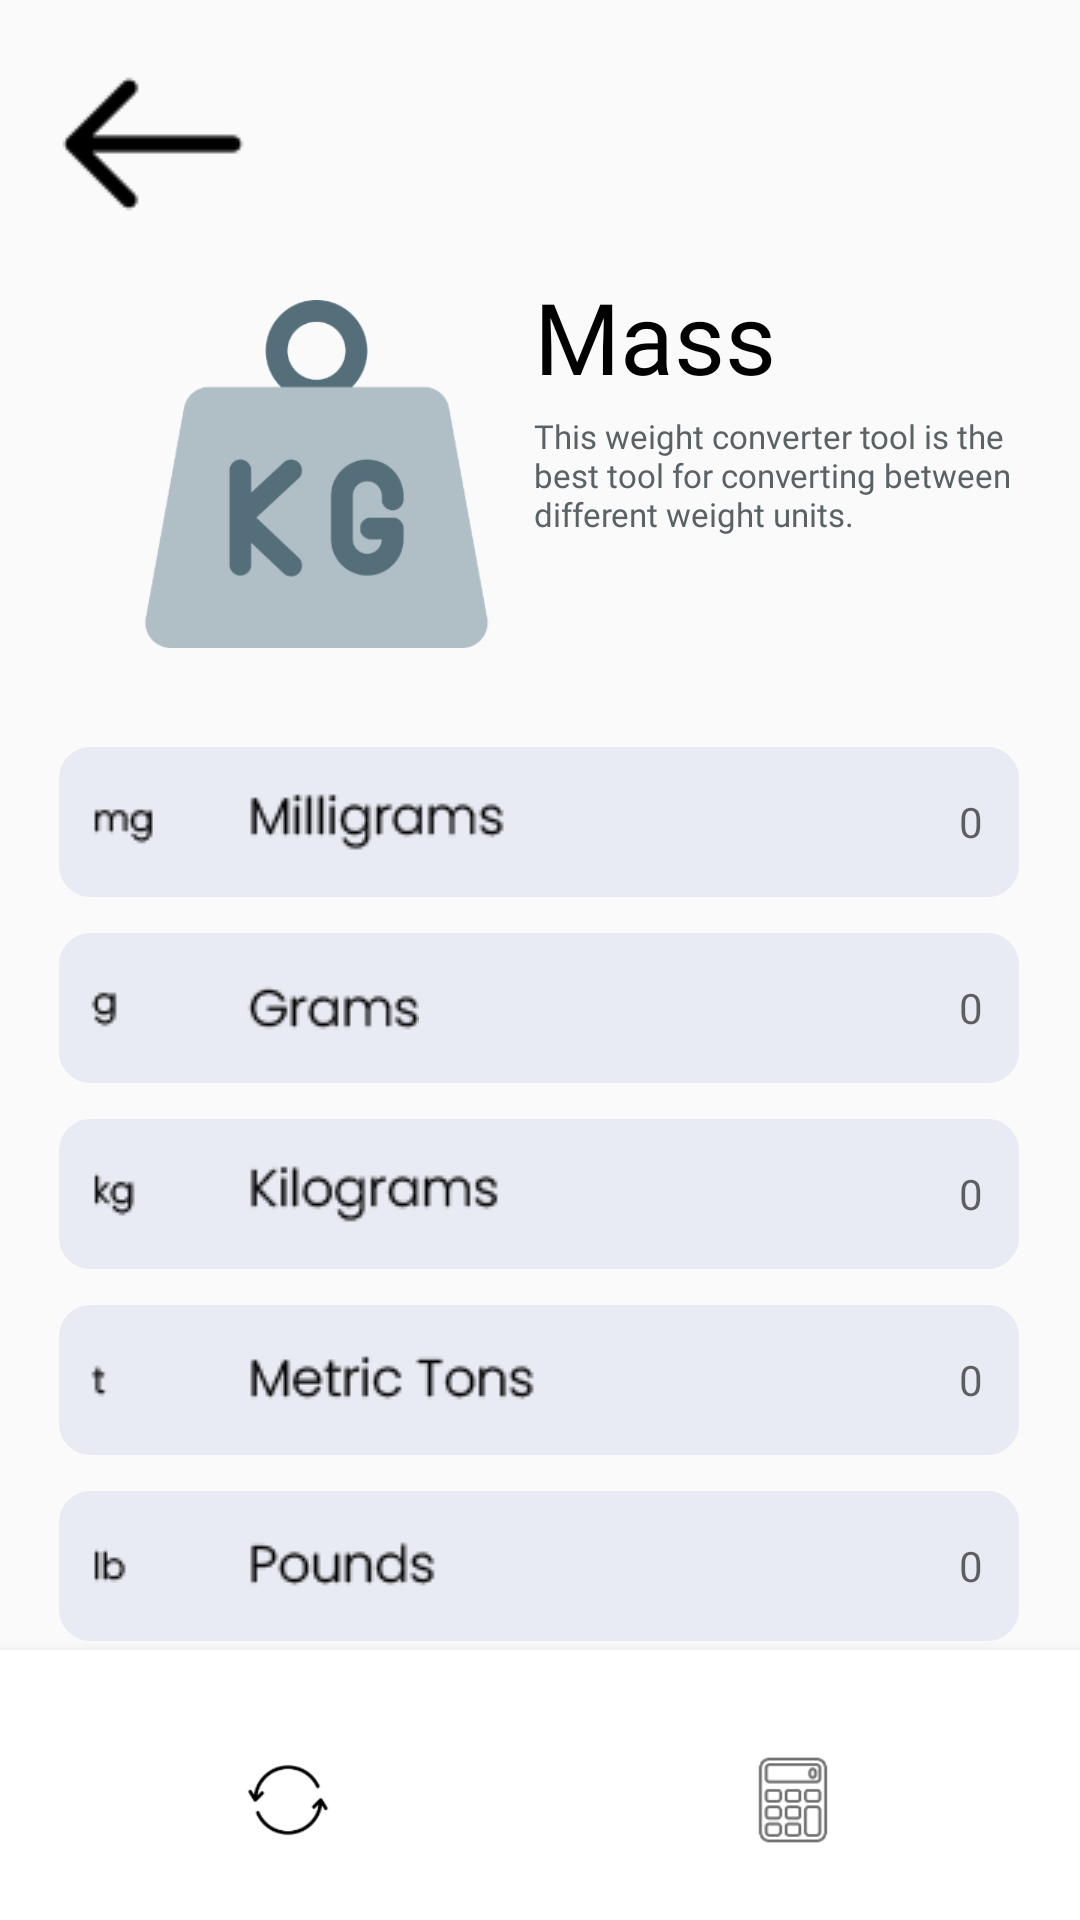

Screen size 1080x1920. Icon name, then its box in pixels as (x1, y1, x2, y2):
arrow: (63, 78, 243, 210)
